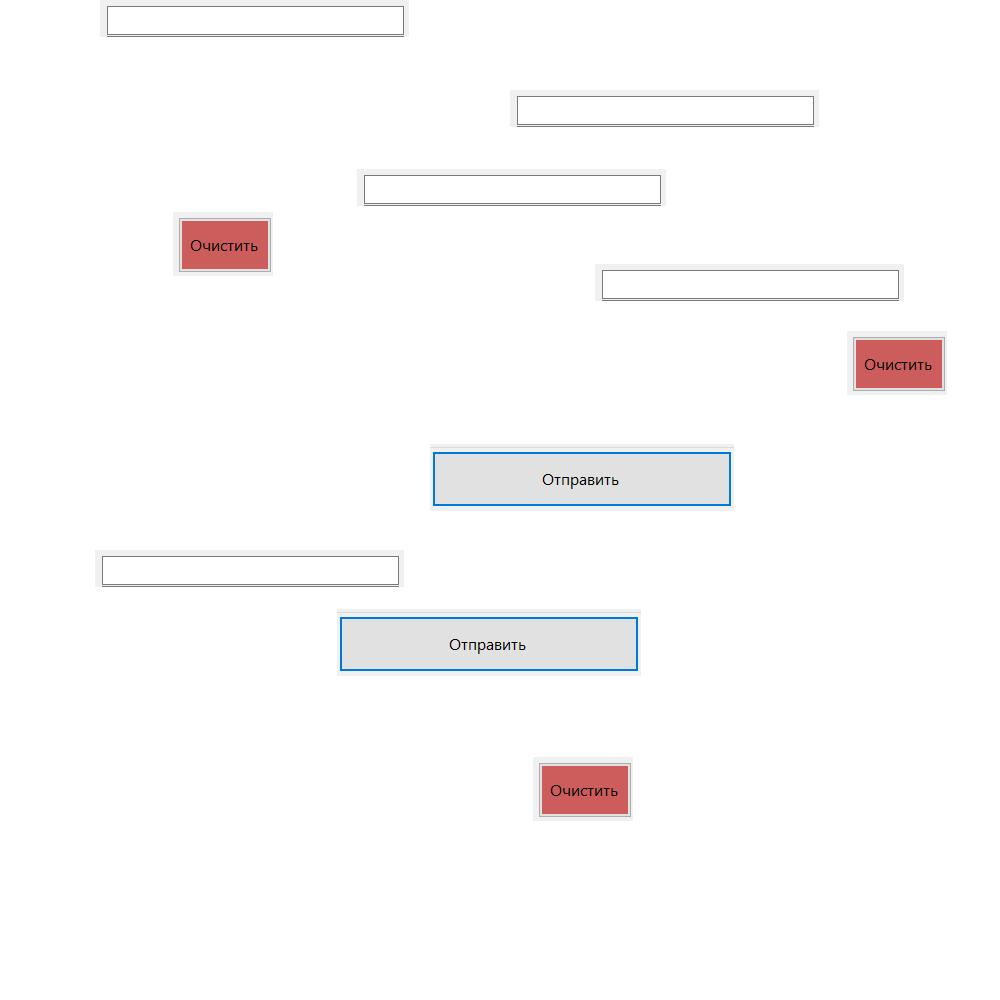Button: (337, 609, 641, 676), (430, 444, 734, 511), (847, 331, 947, 395), (533, 757, 633, 821), (173, 212, 273, 276)
EditText-: (595, 264, 904, 301), (100, 0, 409, 37), (357, 169, 666, 206), (510, 90, 819, 127), (95, 550, 404, 587)
